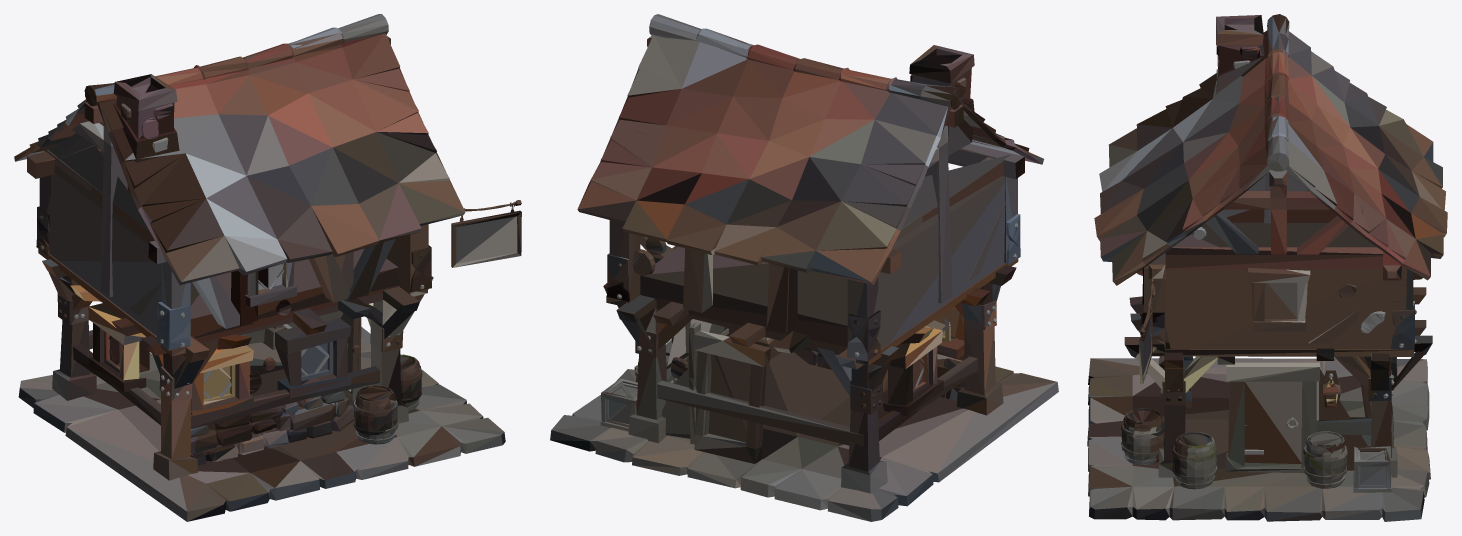
Rendered from Tavern.glb.
The picture shows the model from 3 angles, left to right: view 1: azimuth 30°, elevation 25°; view 2: azimuth 150°, elevation 25°; view 3: azimuth 270°, elevation 25°; orthographic projection. The views are drawn at different scales.
Visible parts, largest first — view 1: world; view 2: world; view 3: world.
Boxes of the visible parts, box(x1,y1,x2,y2) form: world: box(14, 14, 521, 521); world: box(550, 14, 1058, 521); world: box(1087, 14, 1447, 521).
Size of the model in its own units: 0.998 by 0.9707 by 0.8809.
